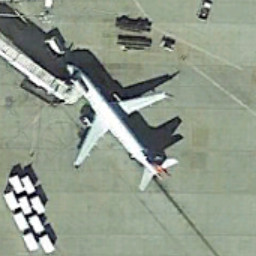Airplane: (37, 54, 192, 196)
